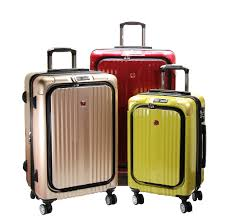luggage: (13, 12, 215, 214)
